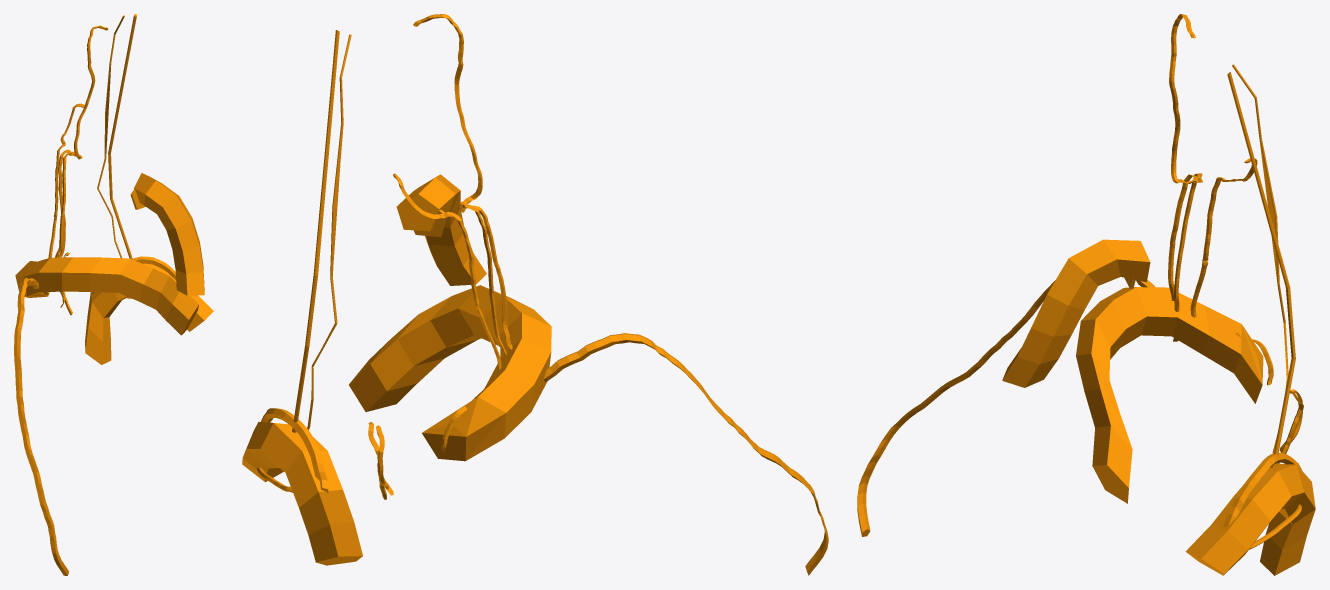
3 renders of one model, left to right at view 1: azimuth 30°, elevation 25°; view 2: azimuth 150°, elevation 25°; view 3: azimuth 270°, elevation 25°, orthographic. The views are drawn at different scales.
Visible parts, largest first — view 1: group_1855723211, group_232486091, group_1812808346, group_431825708, group_1548040449, group_2036991953, group_1899214052; view 2: group_1855723211, group_1812808346, group_232486091, group_1548040449, group_431825708, group_2036991953, group_1899214052; view 3: group_1855723211, group_1812808346, group_232486091, group_1548040449, group_431825708, group_2036991953, group_1899214052.
Boxes of the visible parts, <box> form: group_1855723211: <box>15,257,198,335</box>; group_232486091: <box>134,173,204,295</box>; group_1812808346: <box>85,263,213,364</box>; group_431825708: <box>14,277,68,575</box>; group_1548040449: <box>97,14,136,259</box>; group_2036991953: <box>58,25,108,257</box>; group_1899214052: <box>90,256,175,295</box>; group_1855723211: <box>349,285,551,461</box>; group_1812808346: <box>242,421,362,565</box>; group_232486091: <box>396,174,486,285</box>; group_1548040449: <box>292,30,351,432</box>; group_431825708: <box>544,333,828,575</box>; group_2036991953: <box>413,14,506,356</box>; group_1899214052: <box>261,408,328,493</box>; group_1855723211: <box>1076,287,1263,503</box>; group_1812808346: <box>1185,463,1315,575</box>; group_232486091: <box>1002,239,1150,387</box>; group_1548040449: <box>1227,64,1295,468</box>; group_431825708: <box>857,280,1178,536</box>; group_2036991953: <box>1169,14,1202,311</box>; group_1899214052: <box>1223,453,1301,527</box>.
Bounding box in the file's own units: 84.06 × 124 × 83.13.
